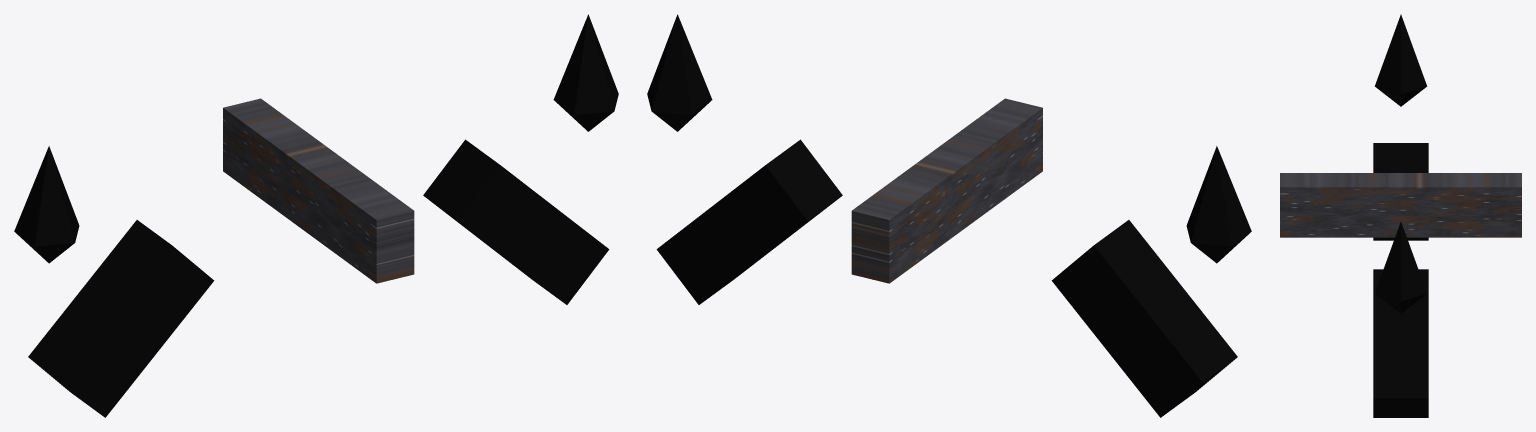
The model's file is rival_horned_helm.obj.
3 views of the same model, side by side, from view 1: azimuth 30°, elevation 25°; view 2: azimuth 150°, elevation 25°; view 3: azimuth 270°, elevation 25° (orthographic). The views are drawn at different scales.
Visible parts, largest first — view 1: rival_horned_helm; view 2: rival_horned_helm; view 3: rival_horned_helm.
Boxes of the visible parts, x1=… form: rival_horned_helm: x1=14, y1=14, x2=618, y2=417; rival_horned_helm: x1=647, y1=14, x2=1251, y2=417; rival_horned_helm: x1=1280, y1=14, x2=1521, y2=417.
Size of the model in its own units: 0.978 by 0.423 by 0.4376.
